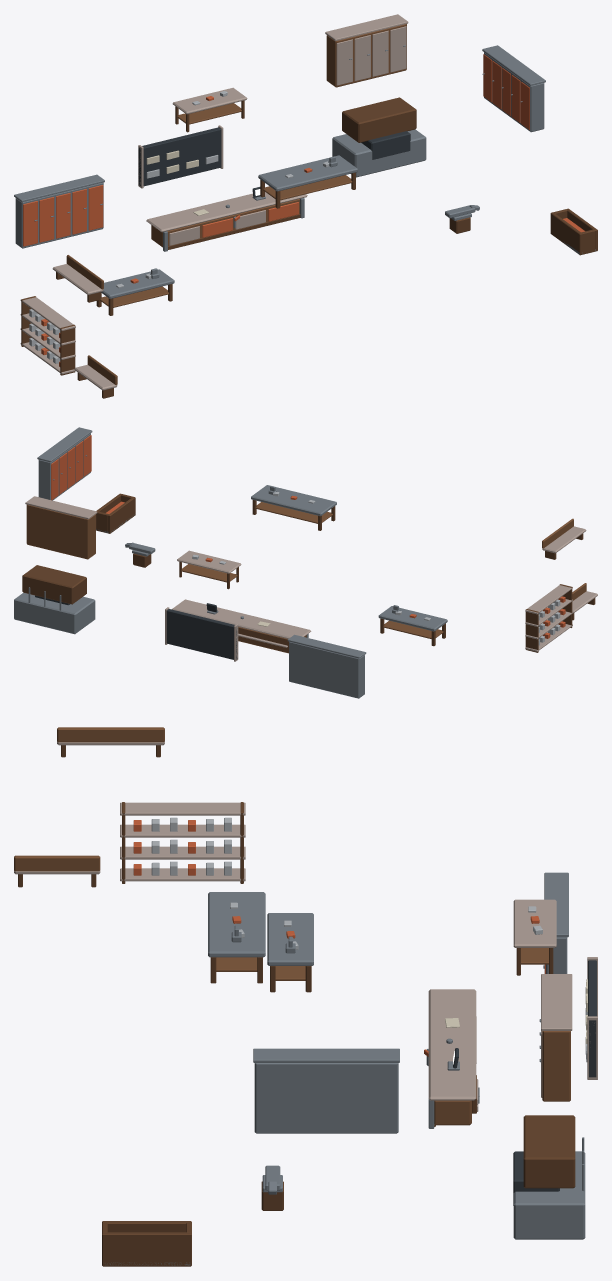
File: cinderlane_tool_forge.glb
3 renders of one model, top to bottom at view 1: azimuth 30°, elevation 25°; view 2: azimuth 150°, elevation 25°; view 3: azimuth 270°, elevation 25°, orthographic. The views are drawn at different scales.
Size of the model in its own units: 25.9 by 6.3 by 16.25.
